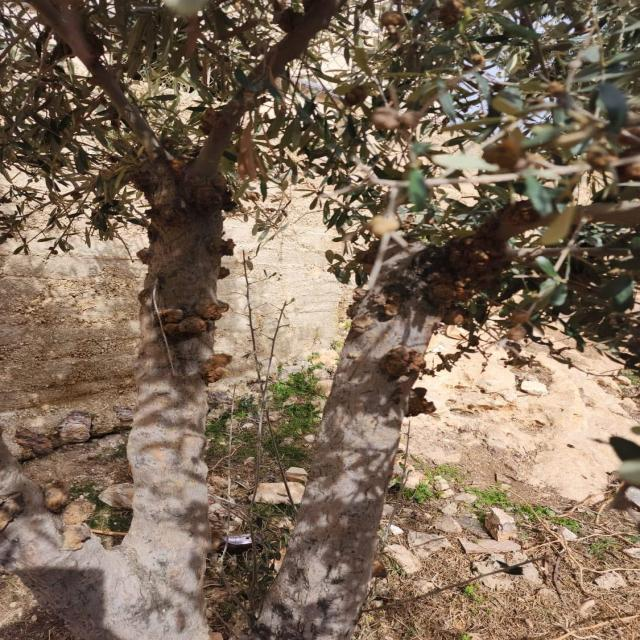Tuberculosis: (424, 218, 509, 325), (158, 300, 229, 339), (379, 346, 426, 380), (378, 282, 407, 321), (202, 353, 232, 384), (404, 387, 435, 417), (345, 285, 368, 319), (349, 315, 379, 337), (208, 239, 235, 259), (137, 248, 152, 265), (216, 266, 230, 280)
